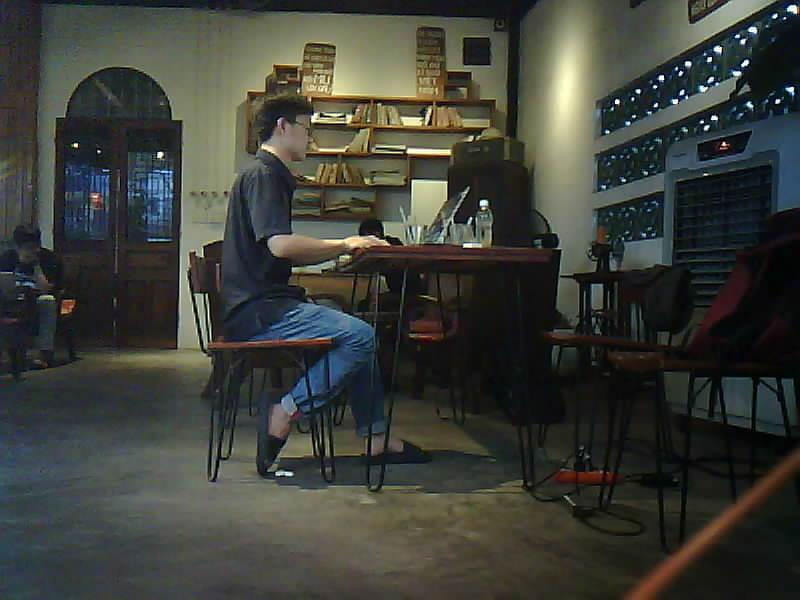bad-pose: (0, 0, 800, 600)
